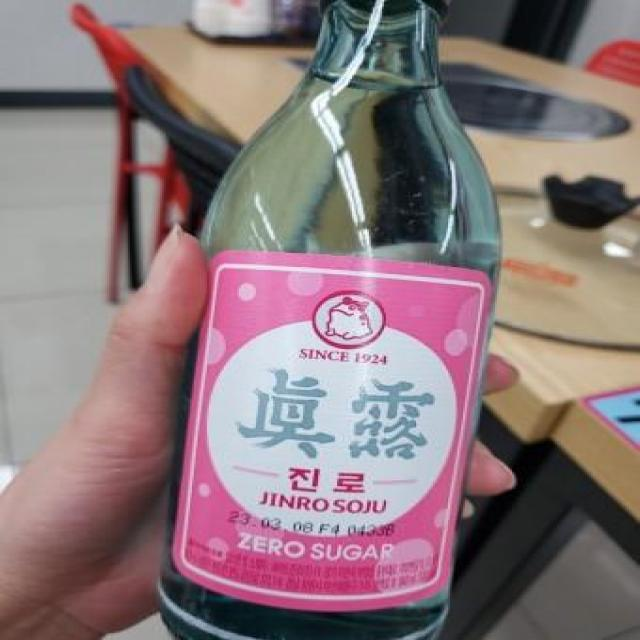soju-bottle: (155, 1, 502, 640)
